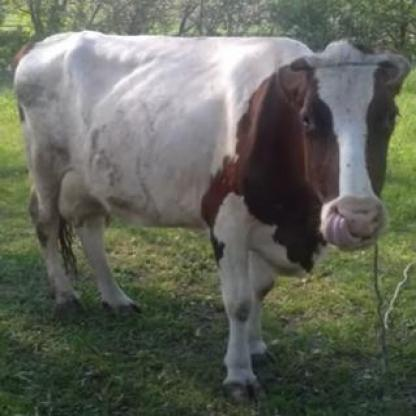cow: (14, 32, 411, 402)
